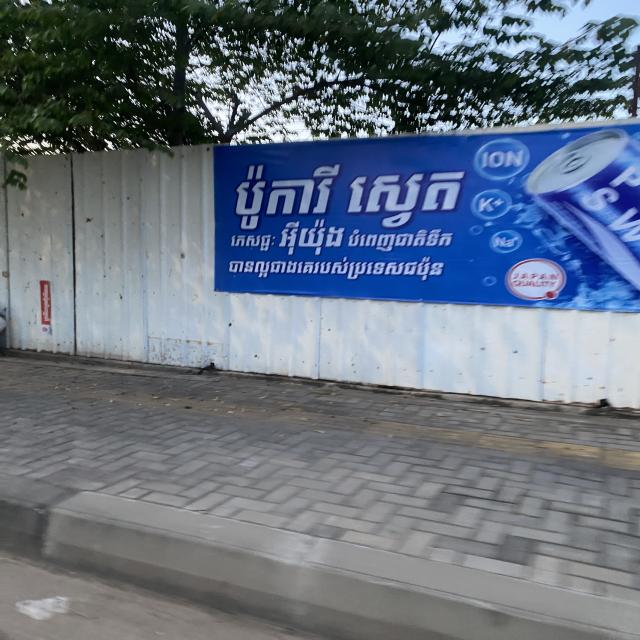1: (225, 160, 476, 235)
Yolov11_80vkh: (222, 254, 453, 285), (342, 226, 457, 254), (275, 218, 353, 258), (227, 231, 280, 252)
